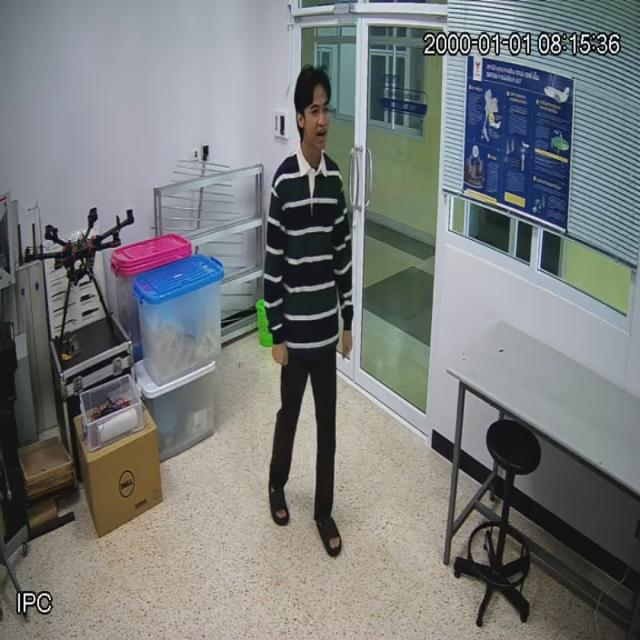normal: (261, 62, 361, 572)
